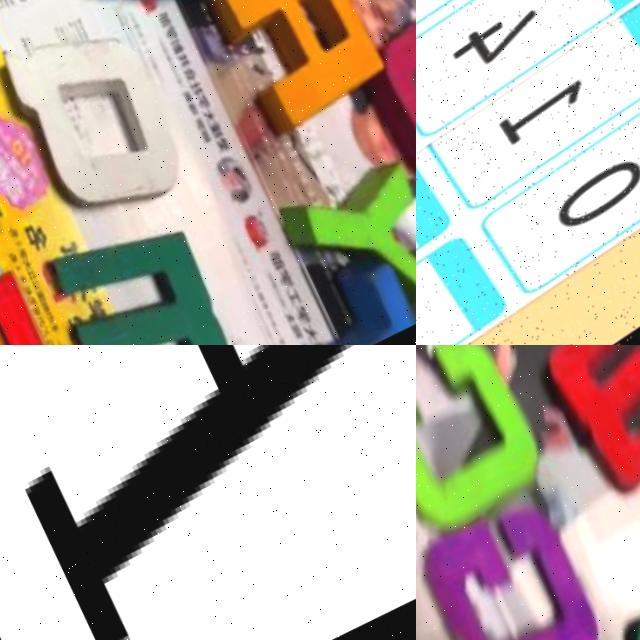0: (545, 138, 640, 239)
1: (491, 61, 604, 151)
4: (437, 0, 565, 85)
C: (416, 345, 564, 539)
E: (0, 267, 112, 345)
G: (416, 479, 625, 640)
M: (47, 202, 279, 345)
O: (348, 0, 416, 186)
Q: (0, 0, 210, 237)
R: (0, 345, 416, 640), (201, 0, 412, 145)
W: (518, 345, 640, 506)
Y: (278, 136, 416, 338)
